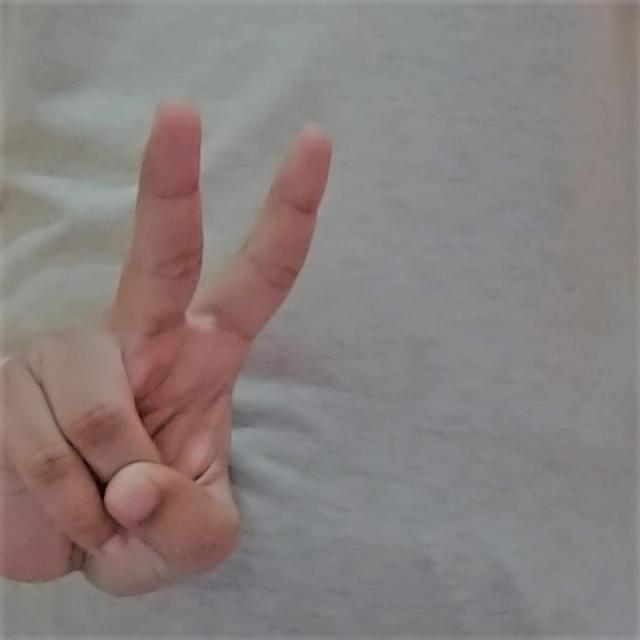V: (12, 87, 342, 606)
